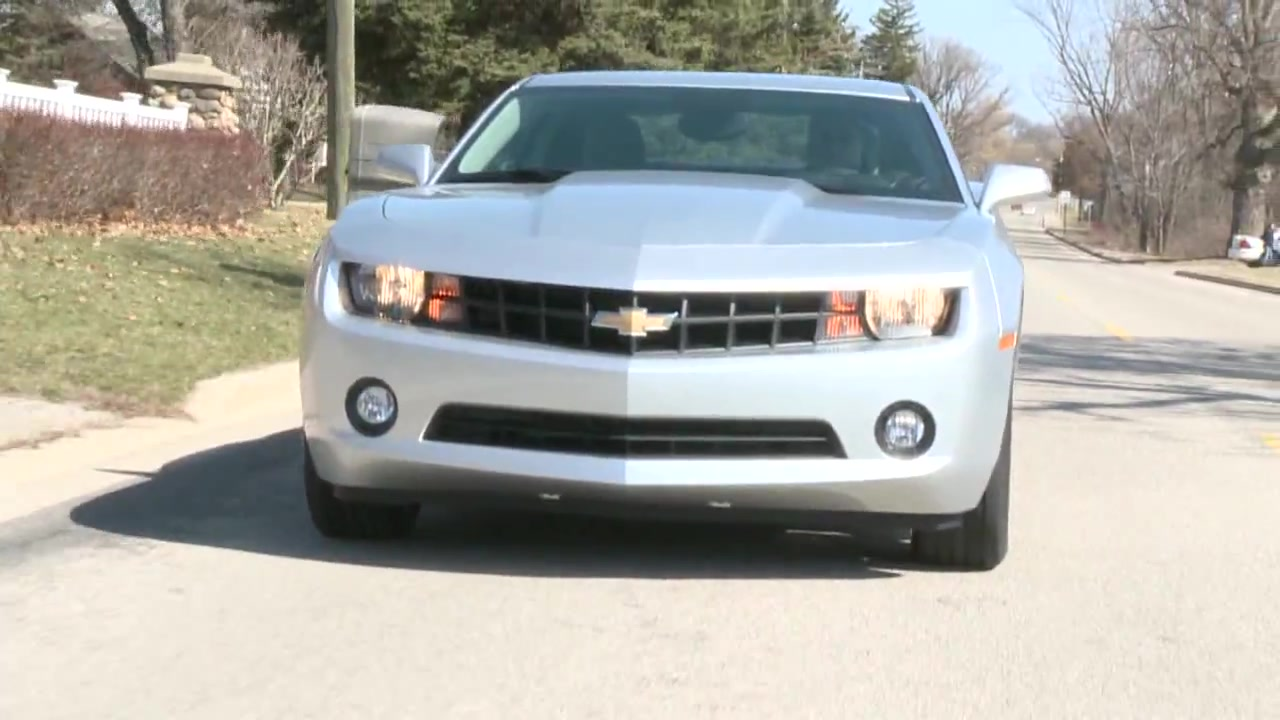car: (302, 64, 1054, 579)
